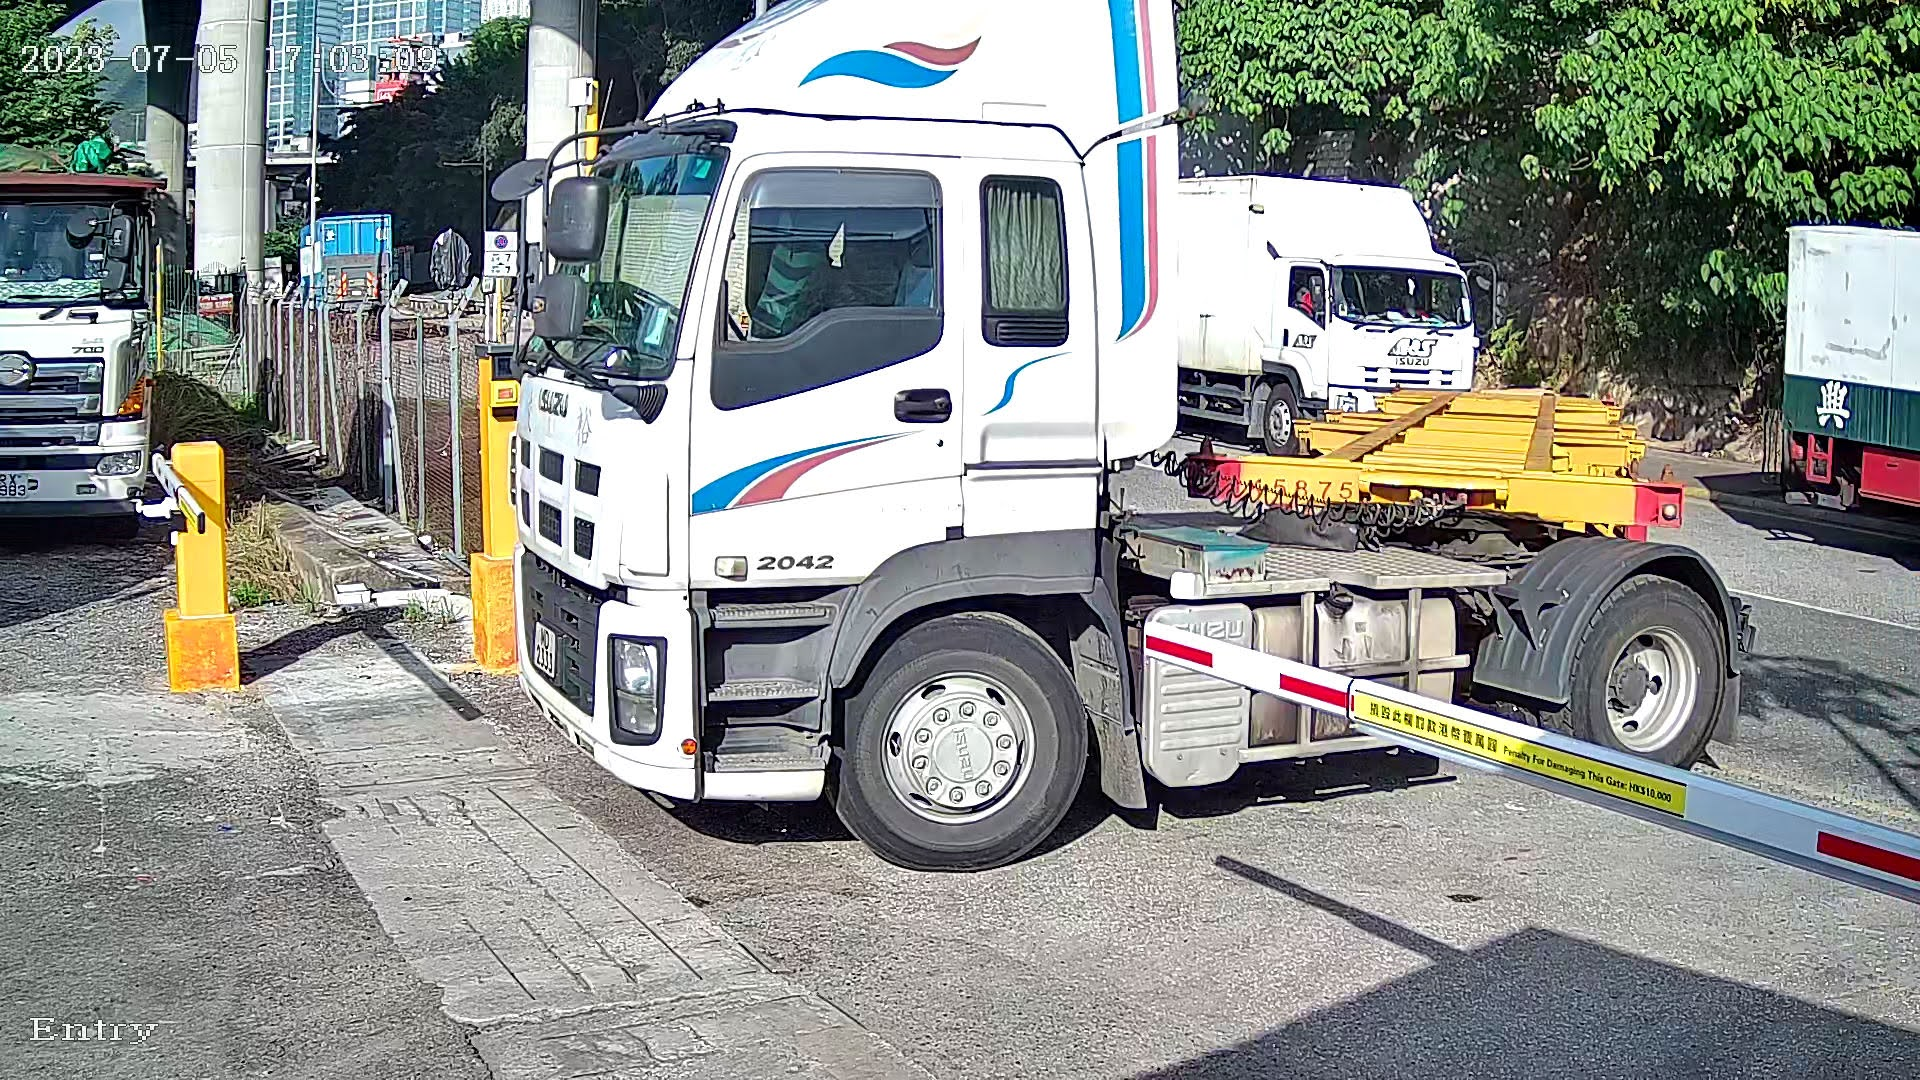tractor: (465, 1, 1778, 891)
